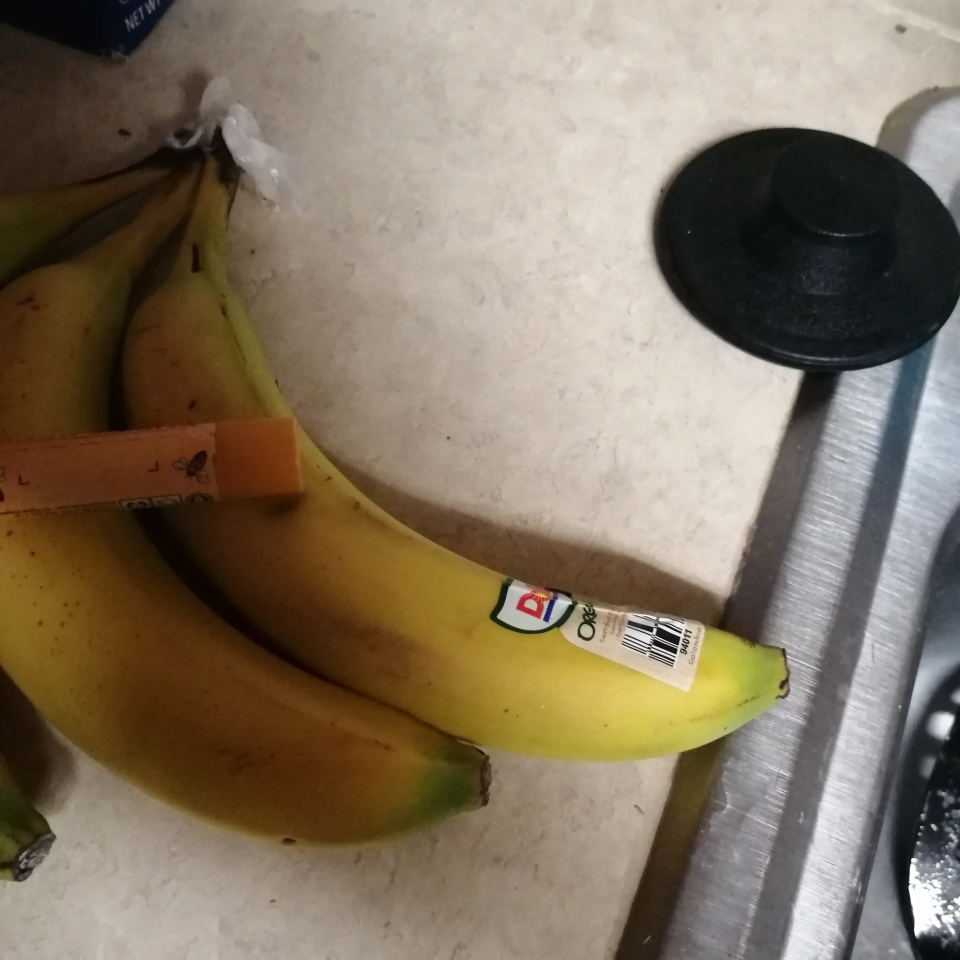chapstick: (1, 415, 304, 520)
